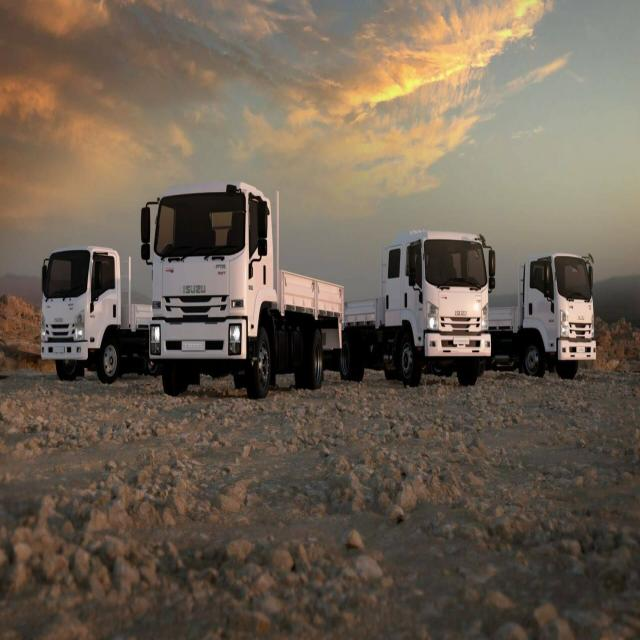Heavy Duty Truck: (145, 188, 346, 396), (346, 226, 497, 394), (493, 236, 599, 382), (39, 242, 147, 382)
